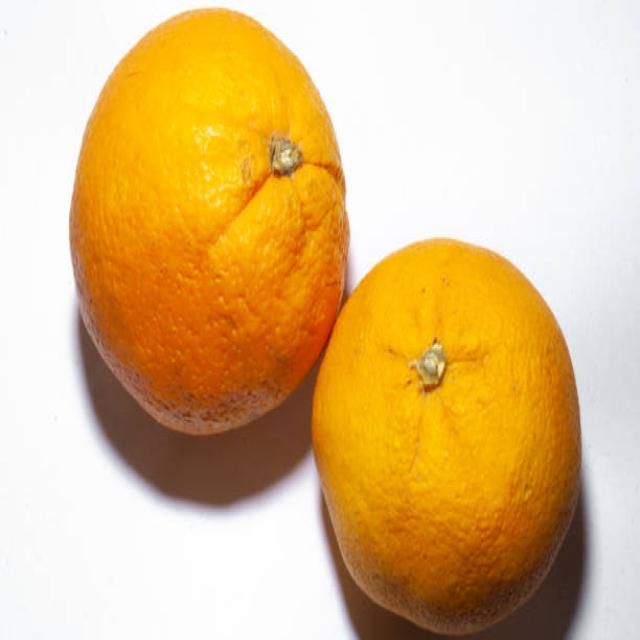Ripe: (66, 4, 352, 442), (310, 236, 584, 638)
